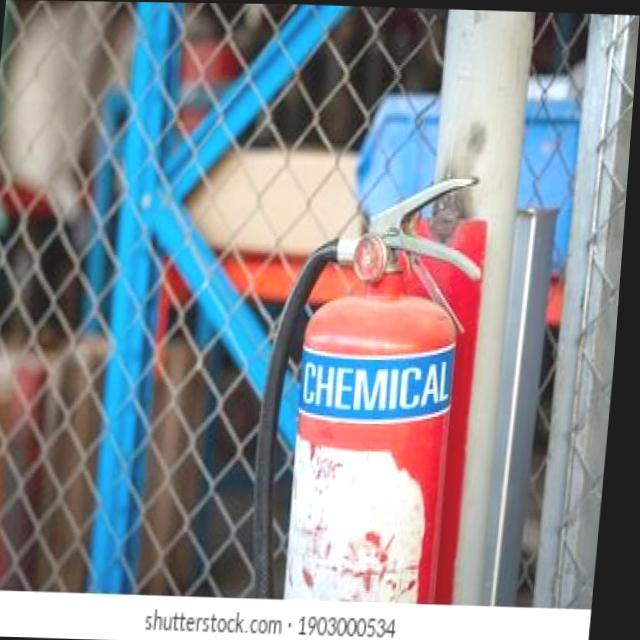FireExtinguisher: (253, 158, 497, 604)
